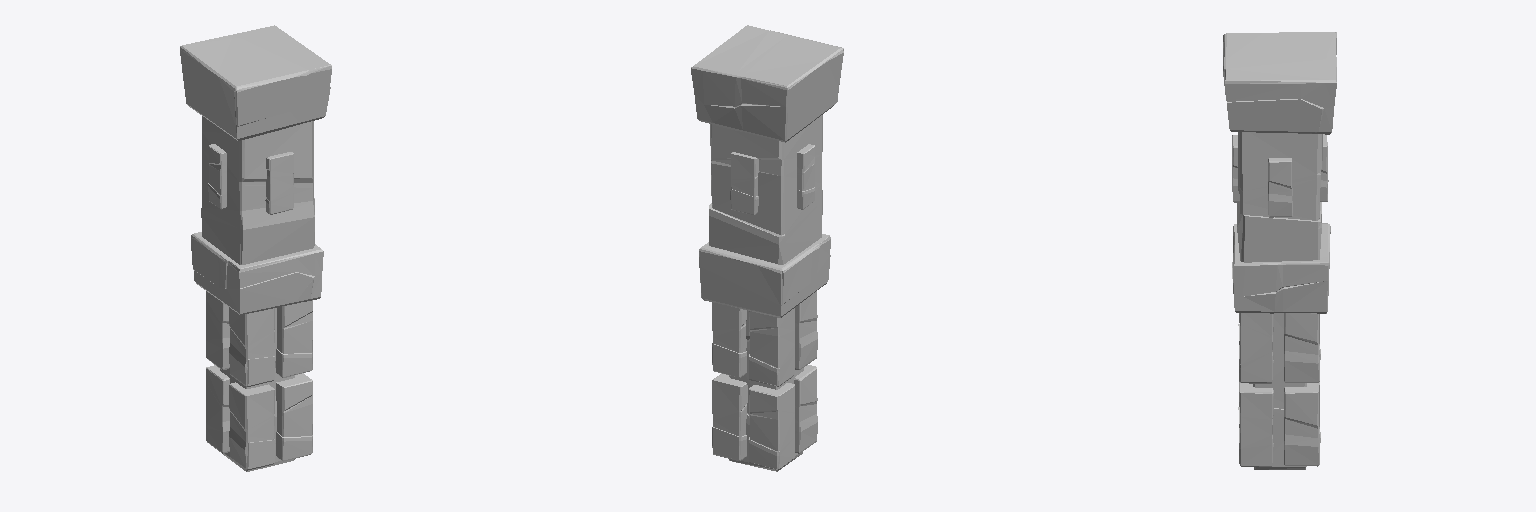
Rendered from Pillar02b.obj.
3 renders of one model, left to right at view 1: azimuth 30°, elevation 25°; view 2: azimuth 150°, elevation 25°; view 3: azimuth 270°, elevation 25°, orthographic.
Visible parts, largest first — view 1: Object002; view 2: Object002; view 3: Object002.
Part boxes in pixels (left/top/right/bottom): Object002: left=180, top=25, right=331, bottom=471; Object002: left=691, top=25, right=843, bottom=471; Object002: left=1223, top=32, right=1336, bottom=469.
Size of the model in its own units: 1.84 by 7.24 by 1.86.